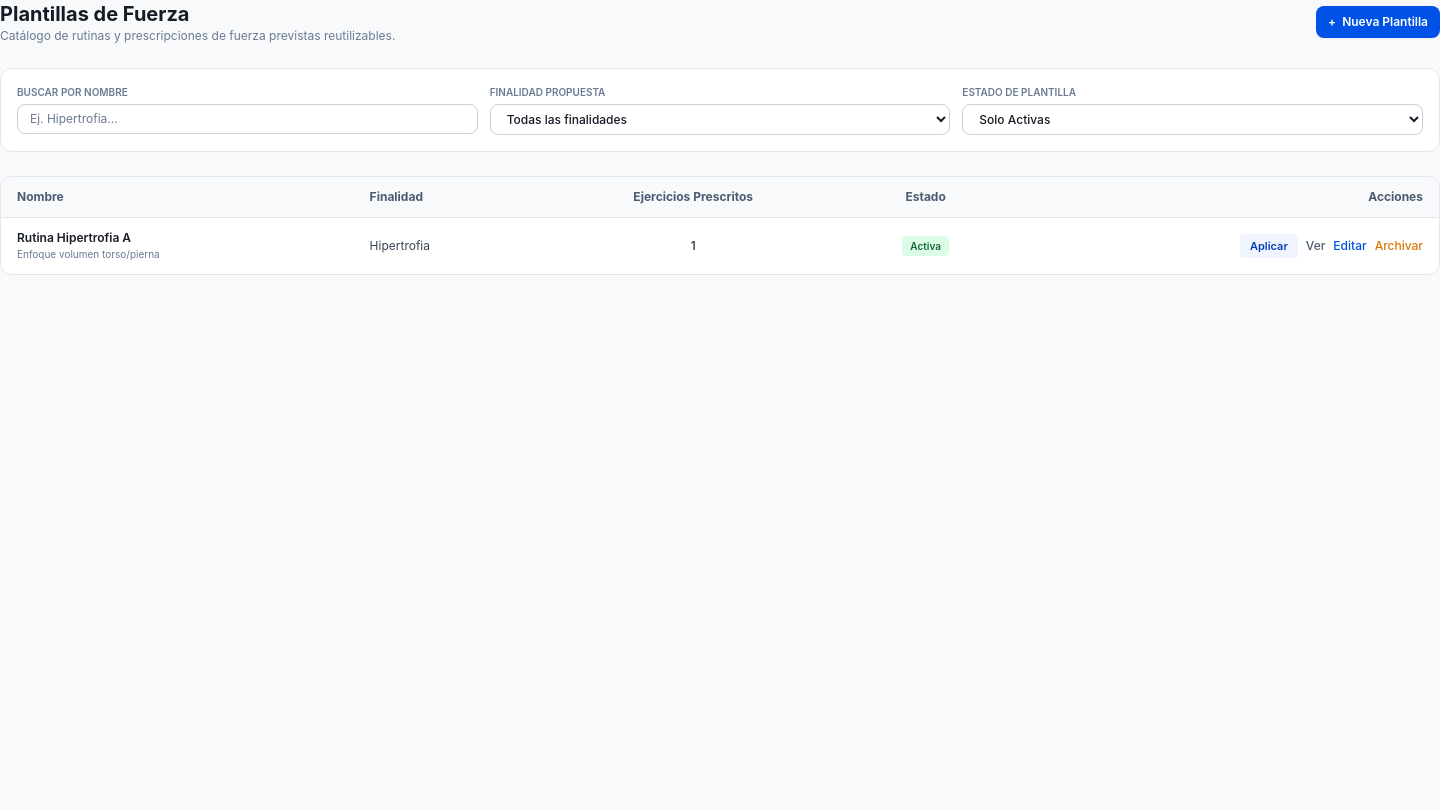
TemplateListPage & Flujo de Plantillas (Bloque 5) › 3. Aplicar plantilla abre el borrador con series vacías para ejecución y asigna id_plantilla_fuerza_origen
Click en "Aplicar" en la plantilla activa pl_1
Click the button "Aplicar" at {"x": 1269, "y": 246}, box [1240, 234, 1298, 258]
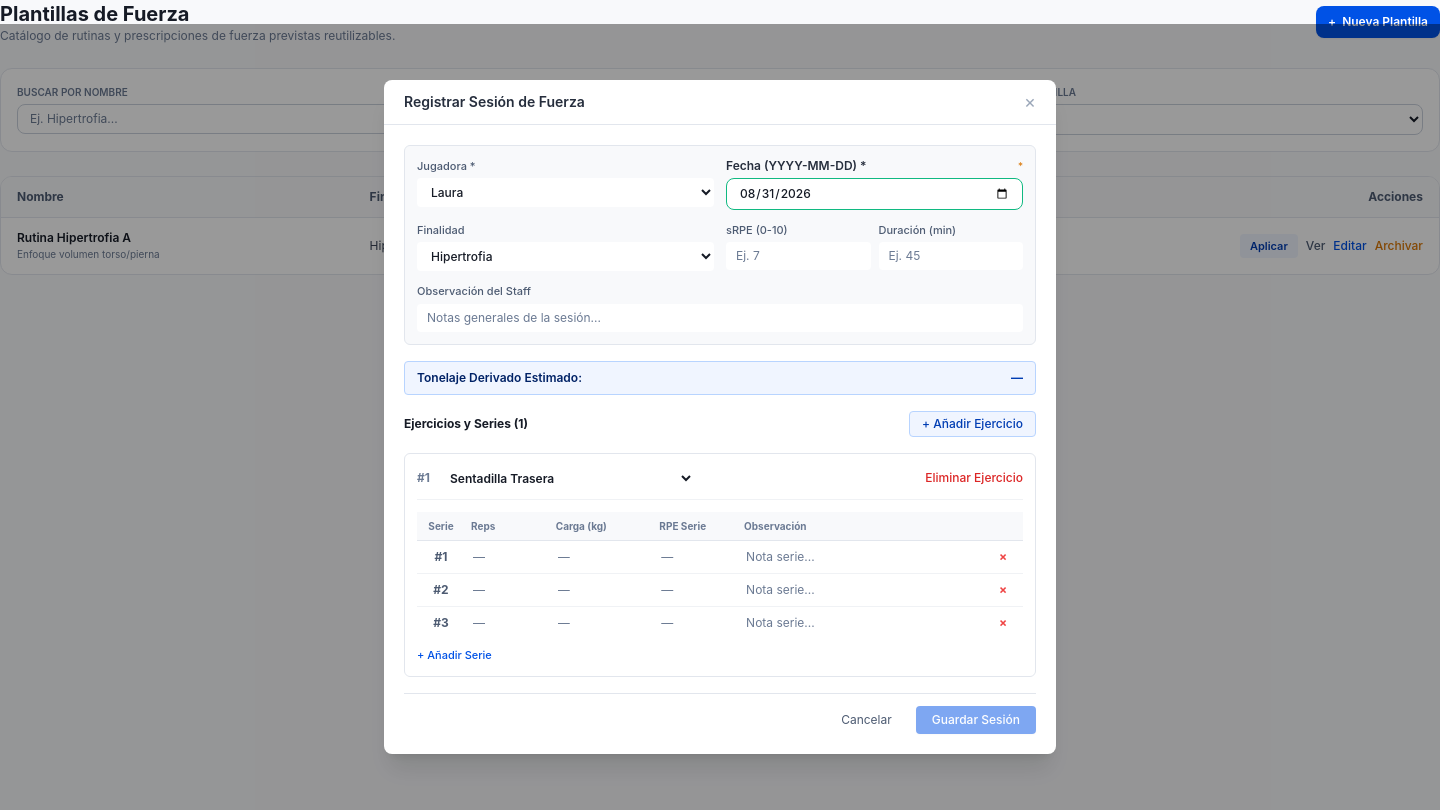
Expected: the heading "Registrar Sesión de Fuerza" is shown, [404, 92, 585, 112]
Expected: the dropdown labelled "Finalidad" shows "Hipertrofia", [417, 242, 714, 271]
